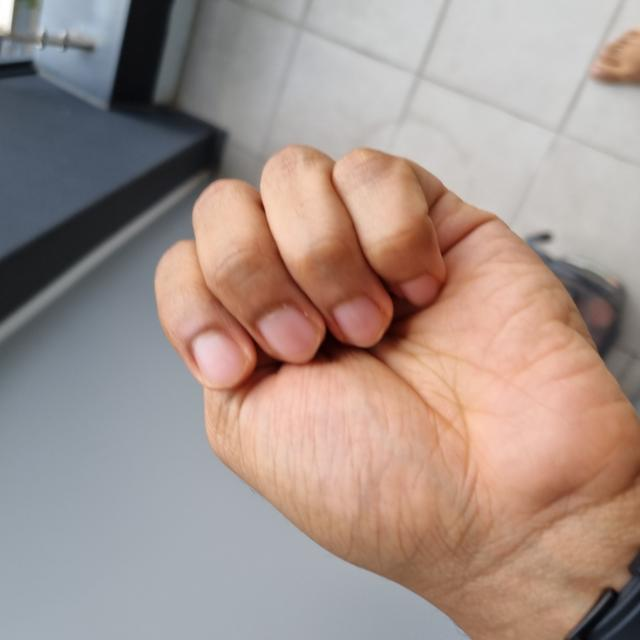Rock: (5, 155, 492, 636)
